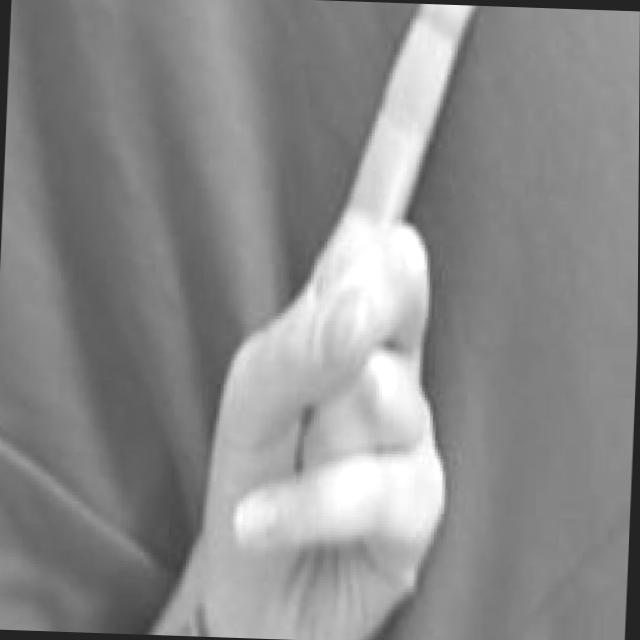I: (185, 0, 477, 640)
